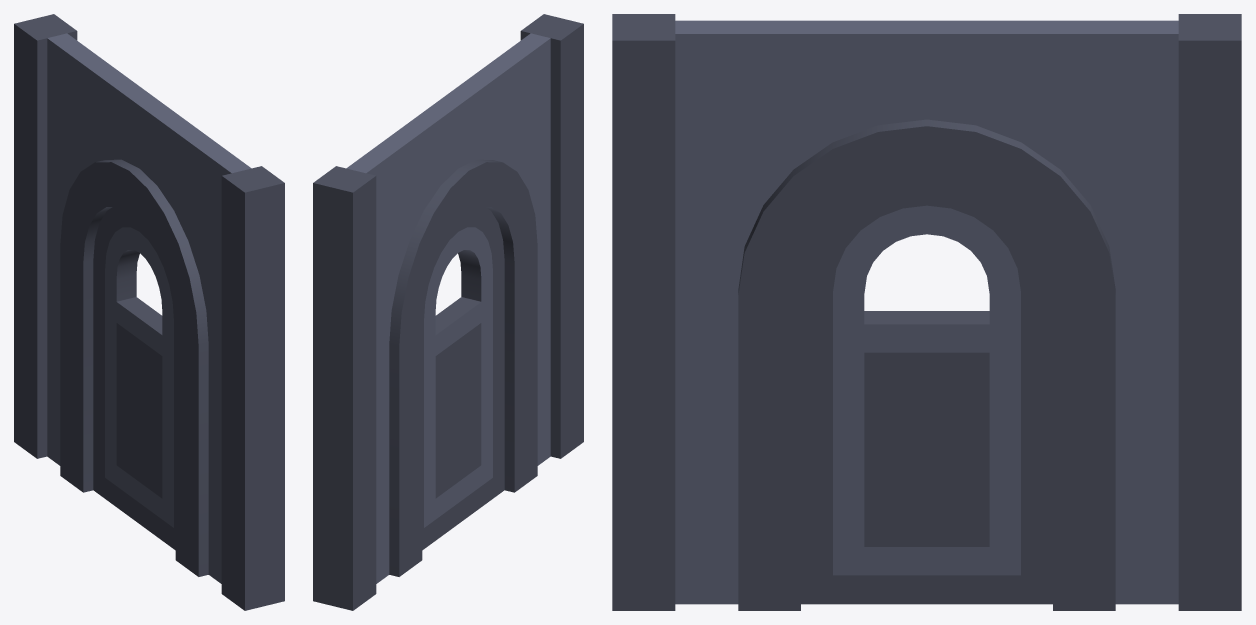
Rendered from wall-wood-door.glb.
3 views of the same model, side by side, from view 1: azimuth 30°, elevation 25°; view 2: azimuth 150°, elevation 25°; view 3: azimuth 270°, elevation 25° (orthographic). The views are drawn at different scales.
Parts seen in each view (by area): view 1: wall-wood-door, door; view 2: wall-wood-door, door; view 3: wall-wood-door, door.
Boxes of the visible parts, <box> form: wall-wood-door: <box>14,14,284,610</box>; door: <box>93,207,175,550</box>; wall-wood-door: <box>313,14,583,610</box>; door: <box>422,207,504,550</box>; wall-wood-door: <box>612,14,1241,610</box>; door: <box>801,183,1052,604</box>.
Bounding box in the file's own units: 0.1 × 1 × 1.
Materials: 1 (1 with a texture image).
